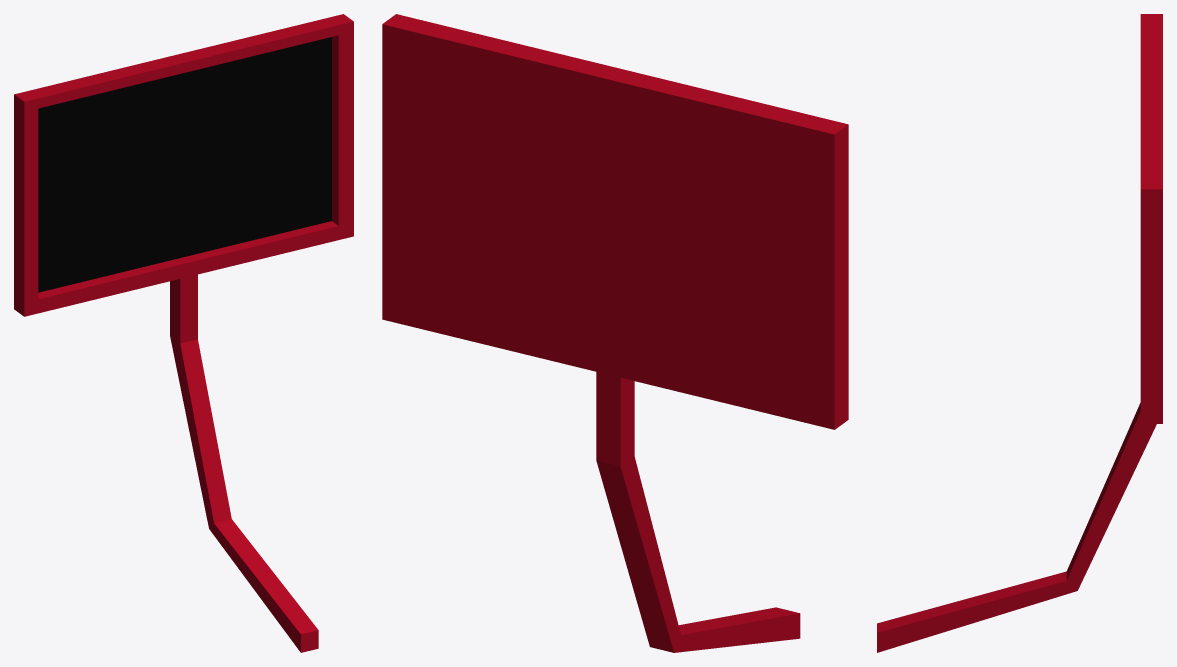
Rendered from Signs.fbx.
3 views of the same model, side by side, from view 1: azimuth 30°, elevation 25°; view 2: azimuth 150°, elevation 25°; view 3: azimuth 270°, elevation 25° (orthographic). The views are drawn at different scales.
Visible parts, largest first — view 1: Cube.003; view 2: Cube.003; view 3: Cube.003.
Boxes of the visible parts, x1,y1,x2,y2 form: Cube.003: (14,14,353,652); Cube.003: (382,14,848,652); Cube.003: (877,14,1162,652).
Bounding box in the file's own units: 246 × 357 × 169.
